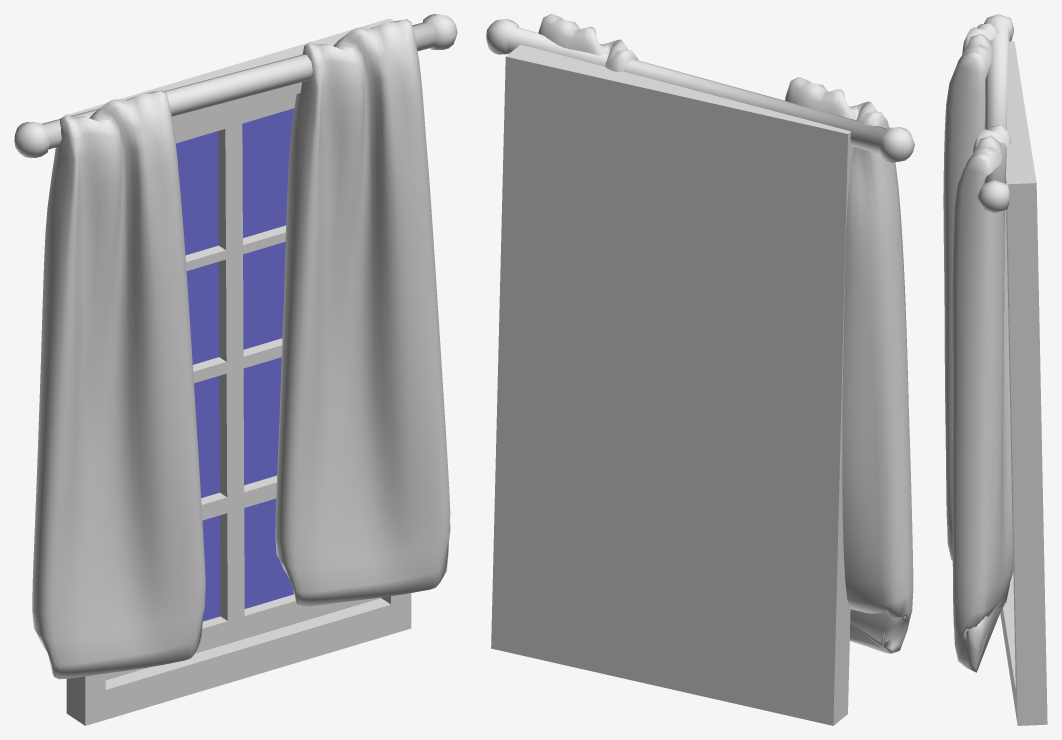
The model's file is window 1.fbx.
The picture shows the model from 3 angles, left to right: view 1: azimuth 30°, elevation 25°; view 2: azimuth 150°, elevation 25°; view 3: azimuth 270°, elevation 25°; orthographic projection. The views are drawn at different scales.
Visible parts, largest first — view 1: Cube.862, Cube.839, Cube.864, Cube.863; view 2: Cube.864, Cube.839, Cube.863, Cube.862; view 3: Cube.862, Cube.864, Cube.839, Cube.863.
Boxes of the visible parts, bbox=[...] form: Cube.862: bbox=[275, 19, 450, 606]; Cube.839: bbox=[32, 90, 205, 679]; Cube.864: bbox=[64, 18, 411, 725]; Cube.863: bbox=[14, 14, 457, 158]; Cube.864: bbox=[491, 45, 853, 725]; Cube.839: bbox=[785, 77, 913, 653]; Cube.863: bbox=[486, 19, 914, 162]; Cube.862: bbox=[538, 14, 638, 72]; Cube.862: bbox=[951, 125, 1013, 672]; Cube.864: bbox=[1000, 41, 1047, 725]; Cube.839: bbox=[943, 23, 998, 560]; Cube.863: bbox=[977, 14, 1013, 212].
Size of the model in its own units: 178 by 41.46 by 248.
